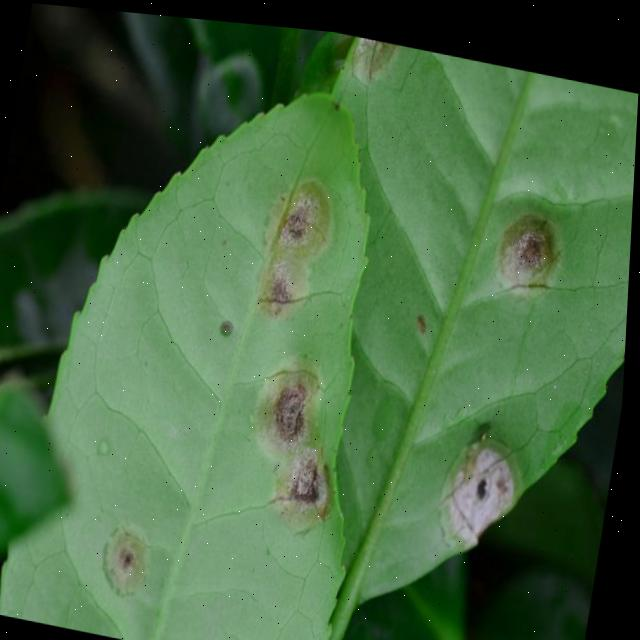Tea cake: (437, 426, 535, 551), (490, 191, 580, 304), (256, 342, 335, 438), (261, 161, 339, 258), (268, 438, 352, 510), (97, 514, 168, 598), (251, 247, 326, 320)
